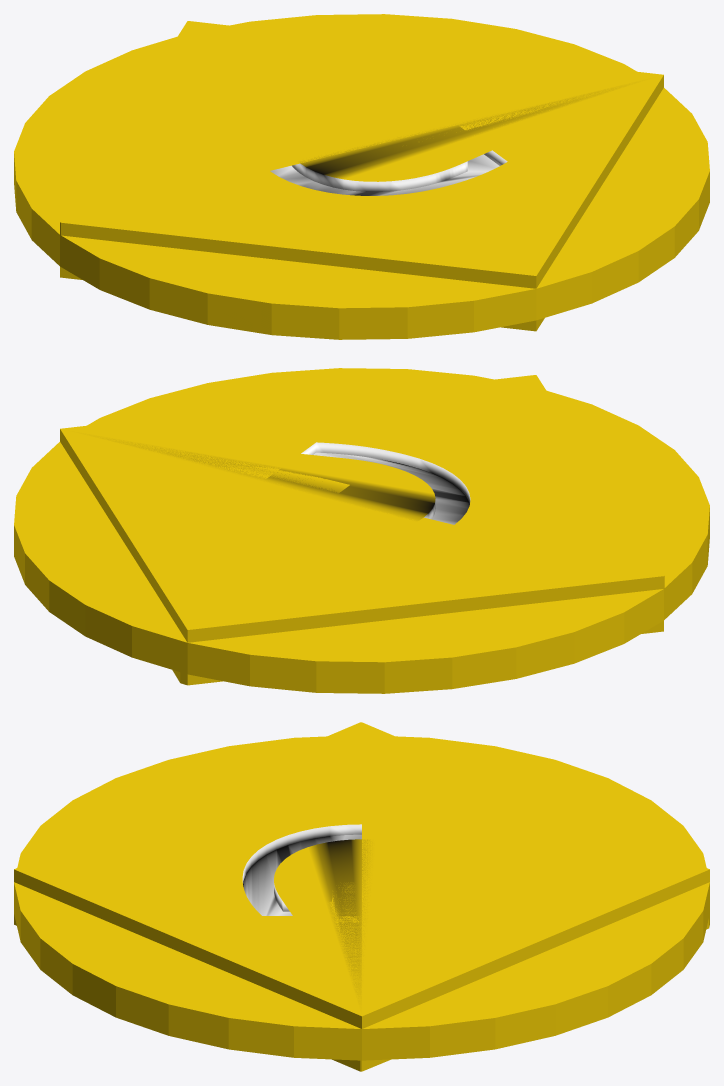
The model's file is GoldCoin2.fbx.
The picture shows the model from 3 angles, top to bottom: view 1: azimuth 30°, elevation 25°; view 2: azimuth 150°, elevation 25°; view 3: azimuth 270°, elevation 25°; orthographic projection.
Parts seen in each view (by area): view 1: Cylinder.001; view 2: Cylinder.001; view 3: Cylinder.001.
Boxes of the visible parts, x1=… form: Cylinder.001: x1=14, y1=14, x2=709, y2=339; Cylinder.001: x1=14, y1=368, x2=709, y2=693; Cylinder.001: x1=14, y1=722, x2=709, y2=1071.
Size of the model in its own units: 200 by 17.52 by 200.
